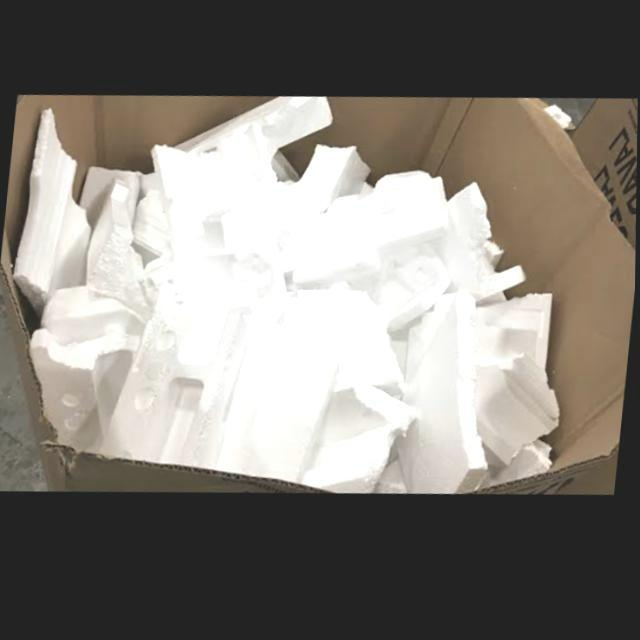cardboard: (276, 101, 637, 504), (0, 94, 334, 499), (569, 107, 638, 264)
